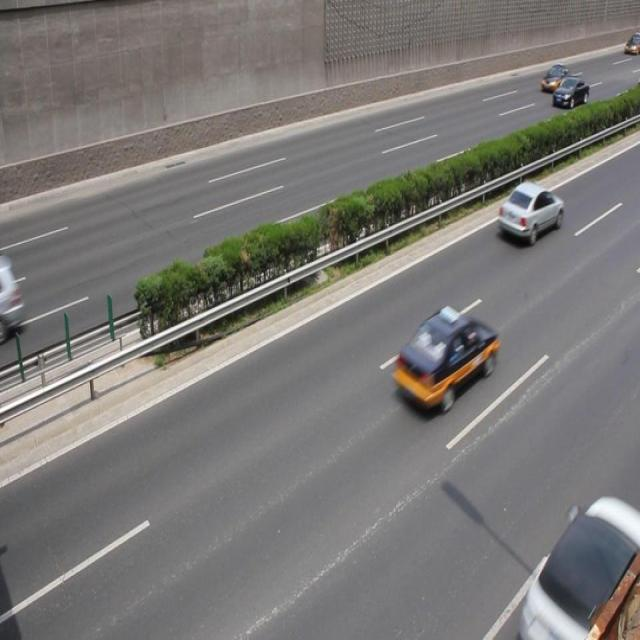car: (389, 305, 497, 413), (496, 180, 562, 244), (552, 76, 588, 108), (539, 62, 572, 91)
